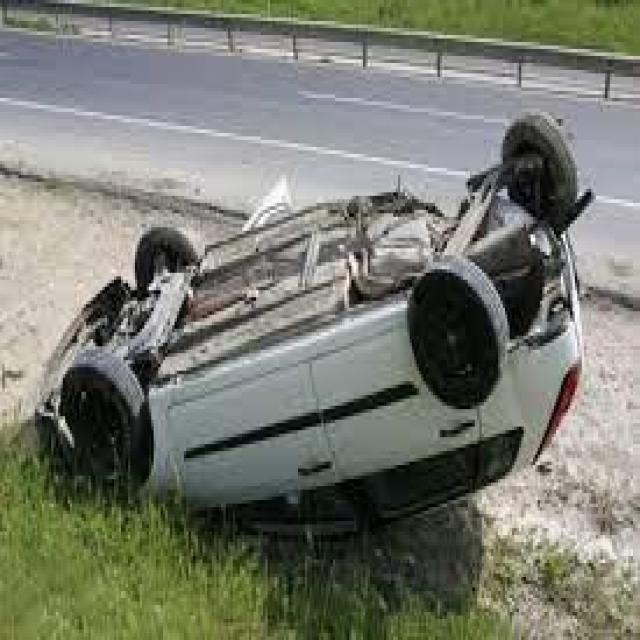severe: (24, 103, 600, 551)
